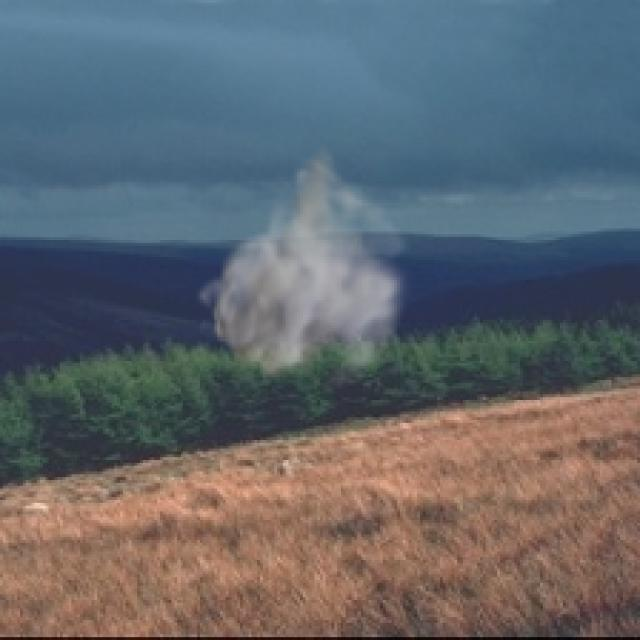Smoke: (194, 140, 414, 403)
